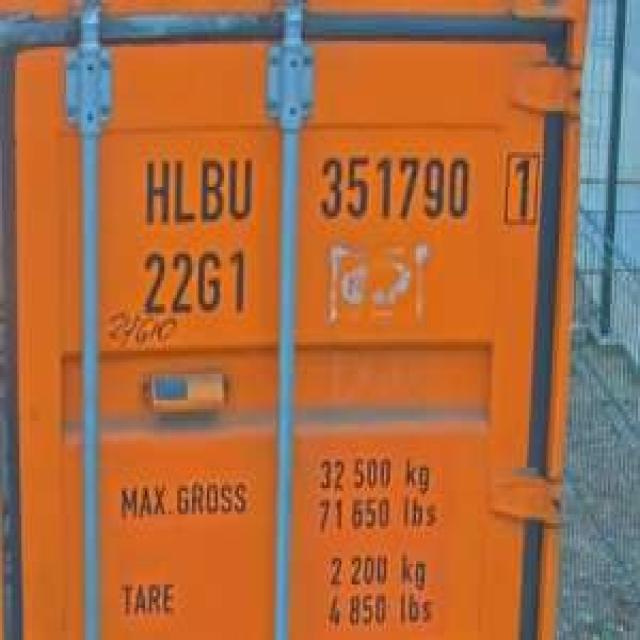dv: (497, 140, 544, 231)
owner: (139, 149, 256, 225)
serial: (314, 143, 474, 228)
size: (139, 242, 254, 322)
